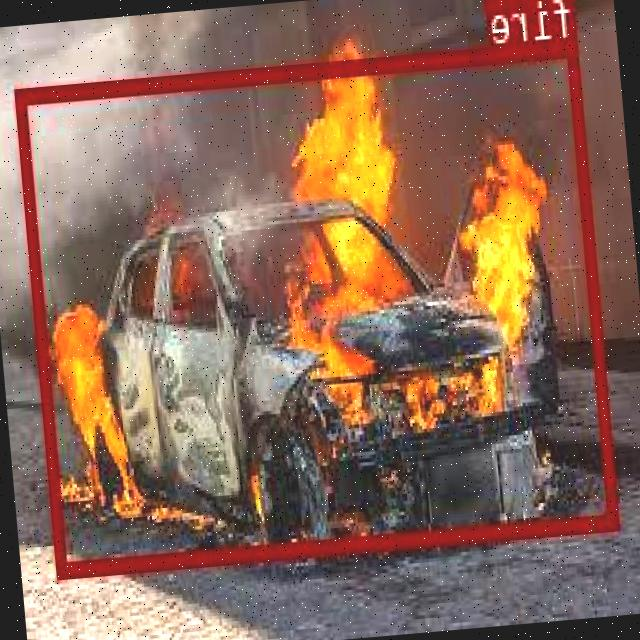fire: (18, 38, 622, 574)
